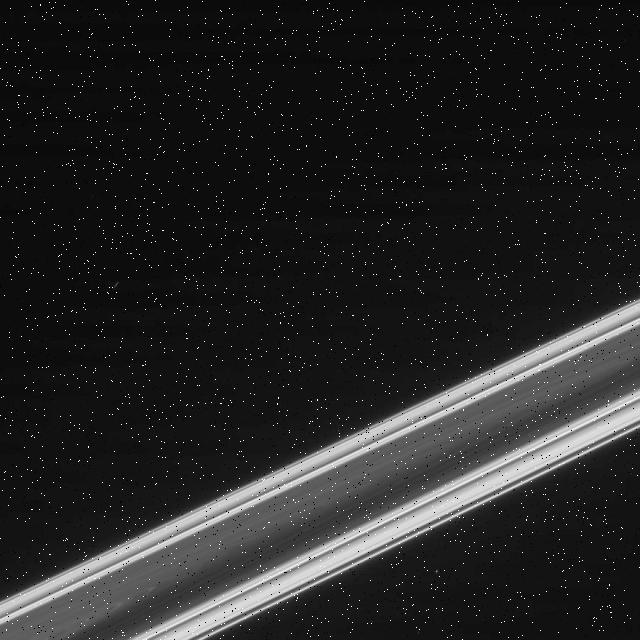Saturn: (0, 272, 640, 640)
